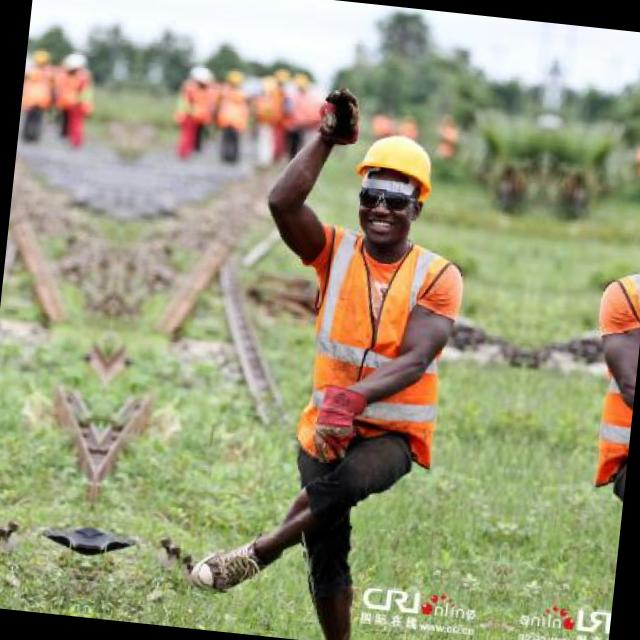helmet: (343, 122, 446, 252)
